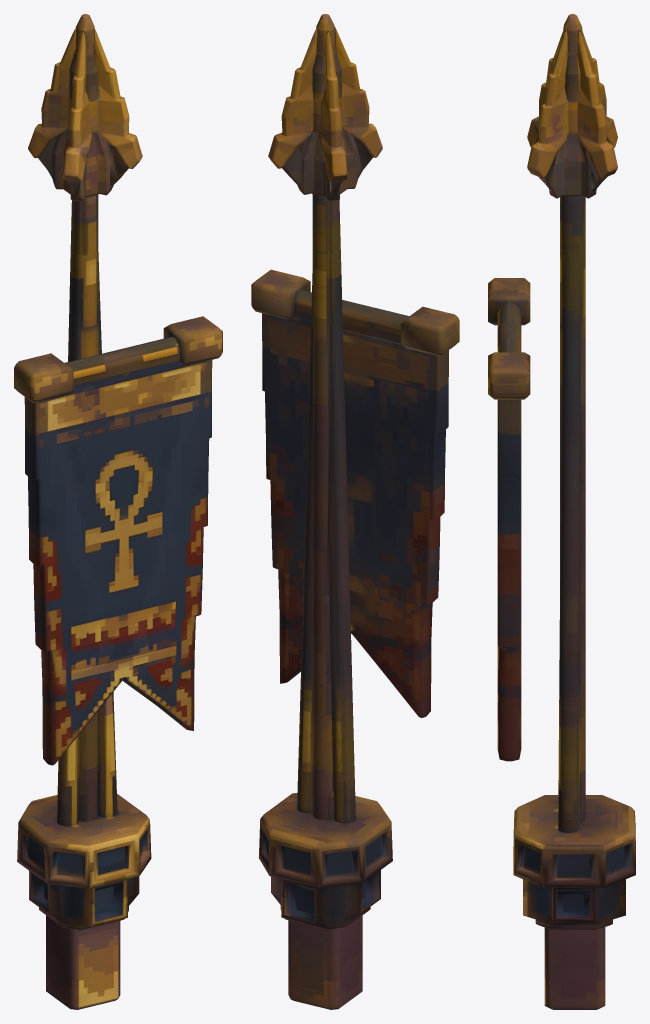
File: tripo_convert_6fa3793f-cfb9-4976-9f09-9d61d14a0479.fbx
3 renders of one model, left to right at view 1: azimuth 30°, elevation 25°; view 2: azimuth 150°, elevation 25°; view 3: azimuth 270°, elevation 25°, orthographic.
Visible parts, largest first — view 1: tripo_node_6fa3793f; view 2: tripo_node_6fa3793f; view 3: tripo_node_6fa3793f.
Boxes of the visible parts, left/top/right/bottom form: tripo_node_6fa3793f: left=14, top=14, right=222, bottom=1009; tripo_node_6fa3793f: left=251, top=14, right=459, bottom=1009; tripo_node_6fa3793f: left=488, top=14, right=635, bottom=1009.
Bounding box in the file's own units: 0.2065 × 0.9995 × 0.1362.
Materials: 1 (1 with a texture image).
